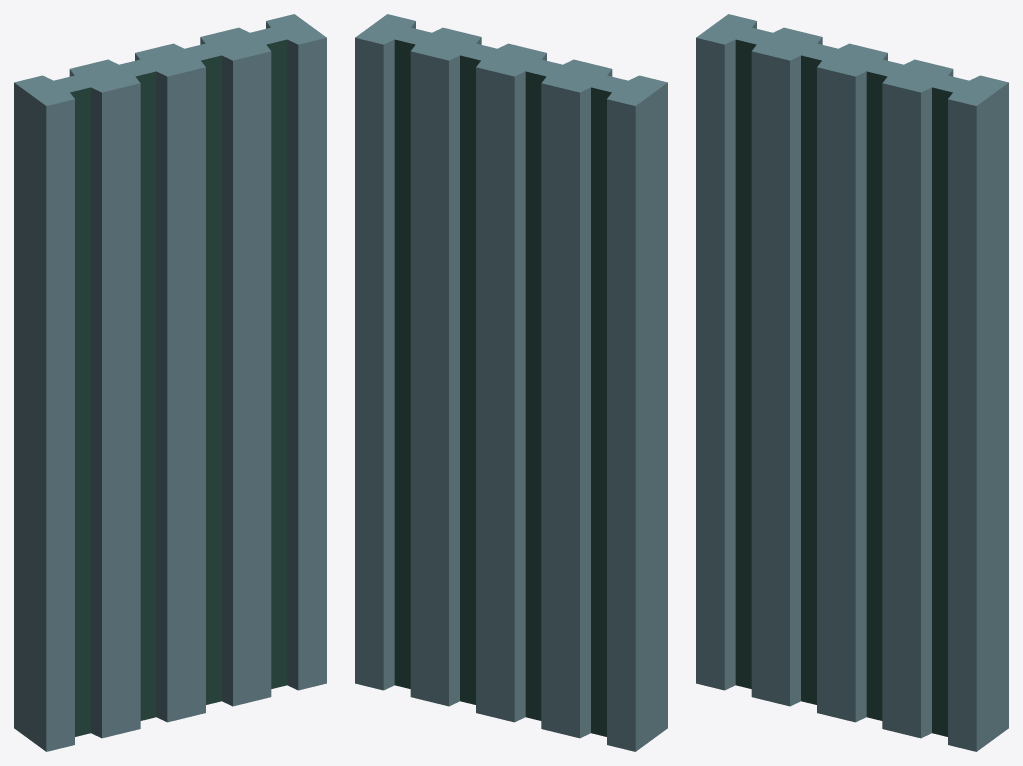
File: W1_Wall_Ridge2Double.fbx
The picture shows the model from 3 angles, left to right: view 1: azimuth 30°, elevation 25°; view 2: azimuth 150°, elevation 25°; view 3: azimuth 330°, elevation 25°; orthographic projection.
Visible parts, largest first — view 1: W1_Wall_Ridge2Double.001; view 2: W1_Wall_Ridge2Double.001; view 3: W1_Wall_Ridge2Double.001.
Boxes of the visible parts, <box> form: W1_Wall_Ridge2Double.001: <box>14,14,326,751</box>; W1_Wall_Ridge2Double.001: <box>355,14,667,751</box>; W1_Wall_Ridge2Double.001: <box>696,14,1008,751</box>.
Size of the model in its own units: 1 by 2.2 by 0.2.
